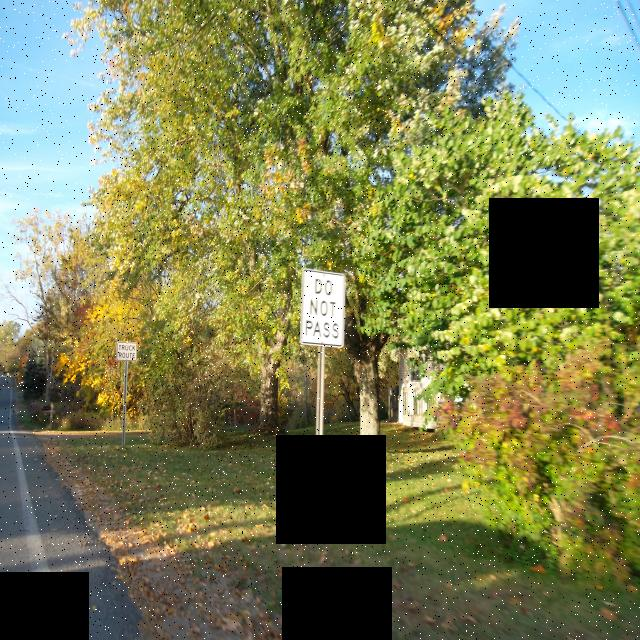regulatory: (300, 265, 346, 353), (115, 338, 140, 363)
